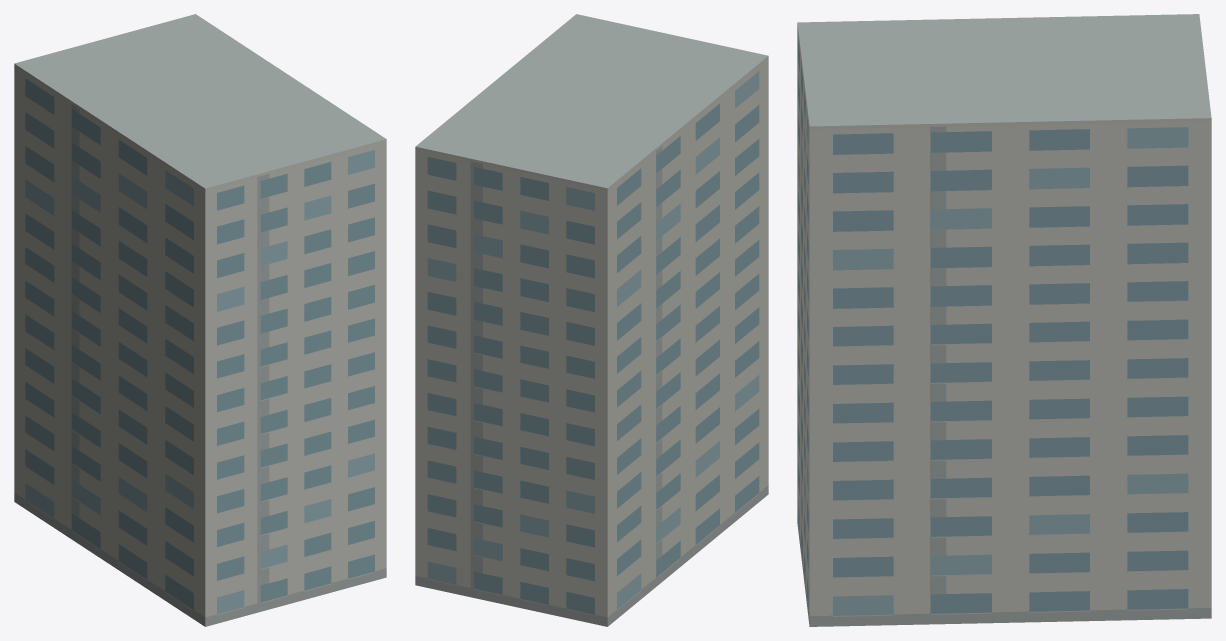
File: residential-3670f67f-c3d1-47dc-9297-90f221fe77e4.glb
3 views of the same model, side by side, from view 1: azimuth 30°, elevation 25°; view 2: azimuth 150°, elevation 25°; view 3: azimuth 270°, elevation 25° (orthographic). The views are drawn at different scales.
Visible parts, largest first — view 1: residential-3670f67f-c3d1-47dc-9297-90f221fe77e4.tmp; view 2: residential-3670f67f-c3d1-47dc-9297-90f221fe77e4.tmp; view 3: residential-3670f67f-c3d1-47dc-9297-90f221fe77e4.tmp.
Boxes of the visible parts, x1=… form: residential-3670f67f-c3d1-47dc-9297-90f221fe77e4.tmp: x1=14, y1=14, x2=386, y2=626; residential-3670f67f-c3d1-47dc-9297-90f221fe77e4.tmp: x1=415, y1=14, x2=768, y2=626; residential-3670f67f-c3d1-47dc-9297-90f221fe77e4.tmp: x1=797, y1=14, x2=1211, y2=626.
Size of the model in its own units: 19.77 by 41 by 30.76.
